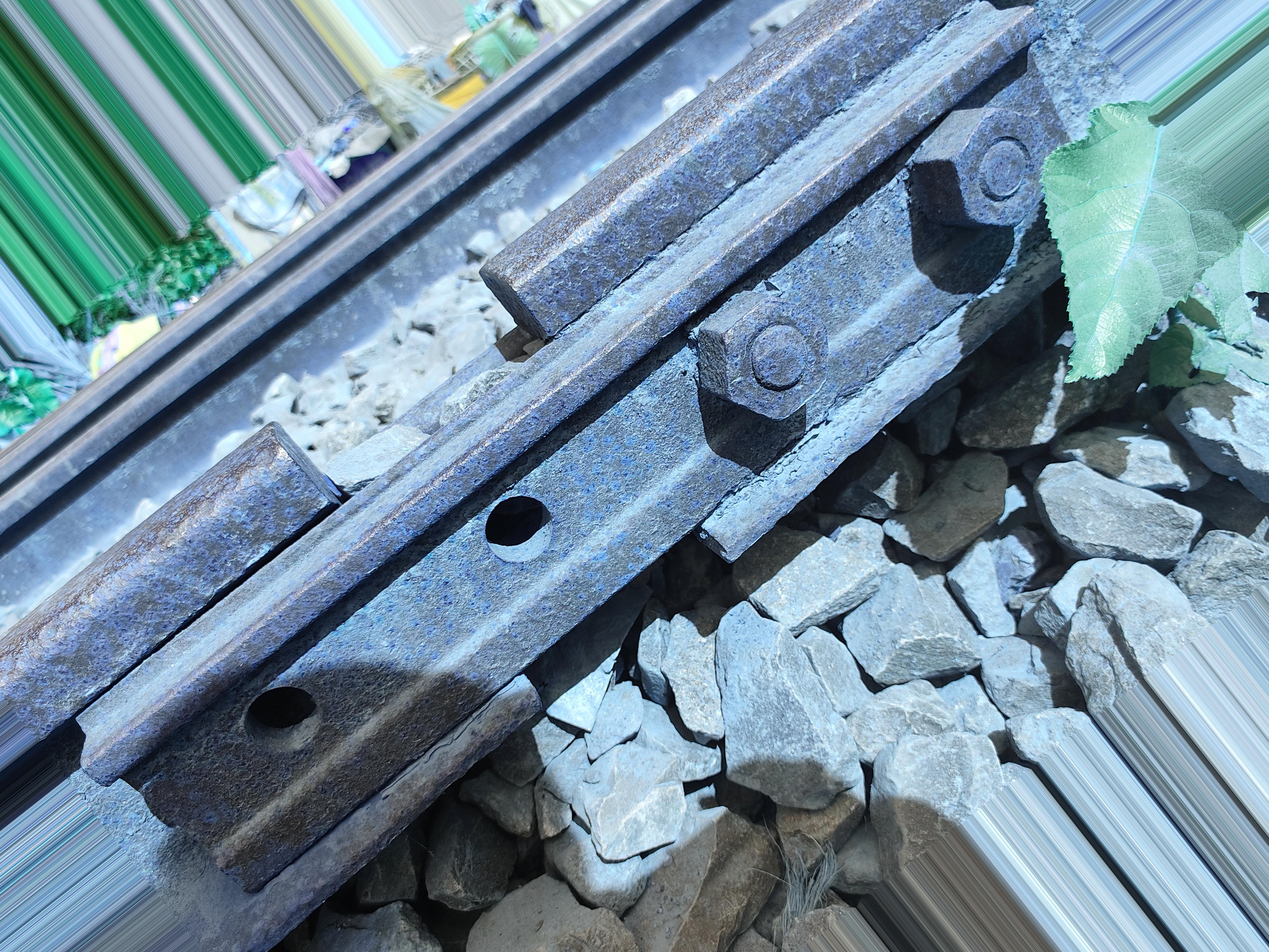railway-gap: (255, 215, 574, 531), (474, 529, 749, 729)
